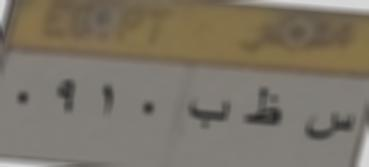0: (7, 77, 39, 117), (138, 92, 160, 126)
1: (96, 74, 120, 122)
9: (54, 72, 79, 118)
Thaa: (240, 77, 284, 136)
baa: (187, 94, 231, 137)
seen: (302, 99, 360, 147)
